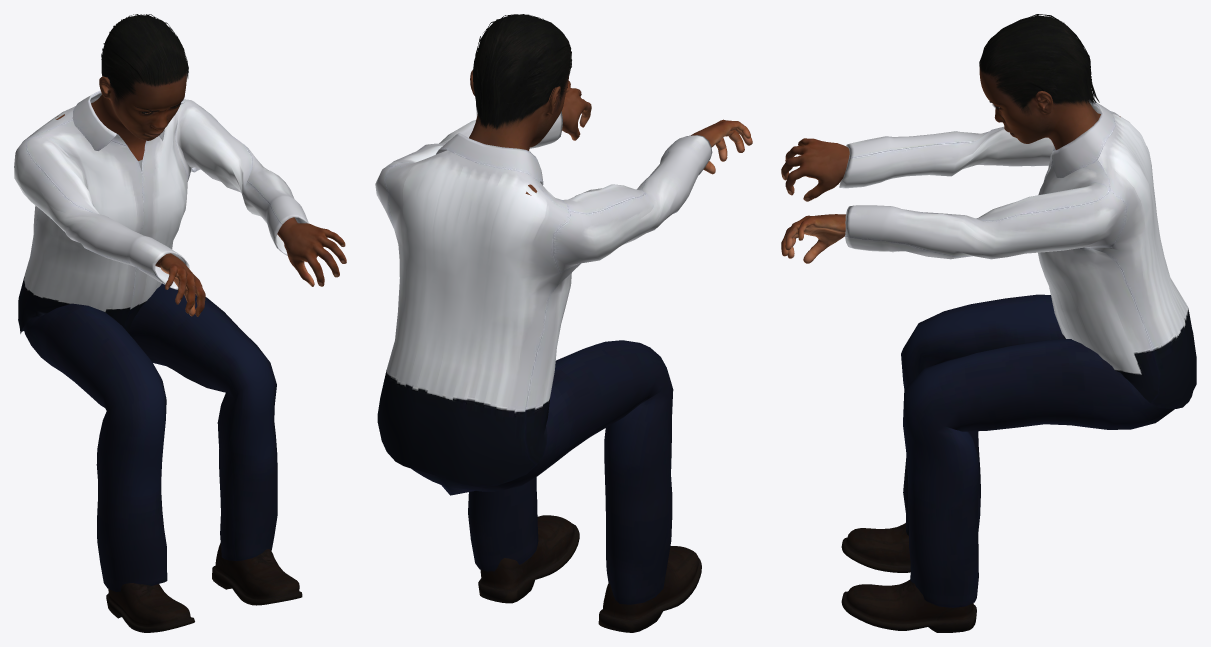
File: b2_sit_build.glb
3 views of the same model, side by side, from view 1: azimuth 30°, elevation 25°; view 2: azimuth 150°, elevation 25°; view 3: azimuth 270°, elevation 25° (orthographic). The views are drawn at different scales.
Parts seen in each view (by area): view 1: b2.male_casualsuit03, b2, b2.shoes01, b2.short04; view 2: b2.male_casualsuit03, b2.short04, b2.shoes01, b2; view 3: b2.male_casualsuit03, b2, b2.short04, b2.shoes01.
Part boxes in pixels (x1,y1,x2,y2): b2.male_casualsuit03: (14, 90, 308, 591); b2: (55, 71, 346, 316); b2.shoes01: (106, 543, 302, 632); b2.short04: (101, 14, 188, 105); b2.male_casualsuit03: (375, 111, 712, 604); b2.short04: (472, 14, 571, 129); b2.shoes01: (478, 515, 701, 632); b2: (469, 70, 752, 195); b2.male_casualsuit03: (839, 101, 1196, 607); b2: (781, 66, 1120, 263); b2.short04: (979, 14, 1099, 113); b2.shoes01: (841, 523, 976, 632).
Bounding box in the file's own units: 0.4763 × 1.2 × 0.7795.
Materials: 7 (7 with a texture image).
